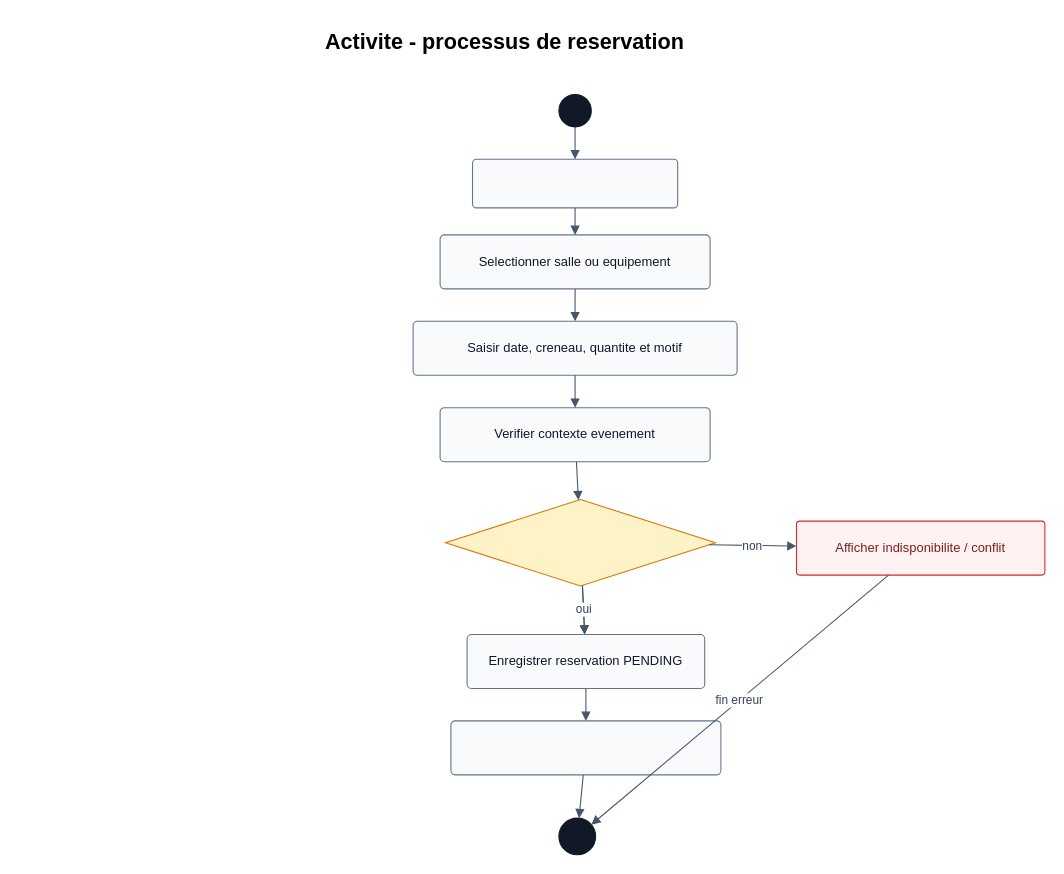
Some shapes in this 1064 by 874 pixel diagram are drawn without their labels. The centre of each missing label's shape, as x and y in pixels:
Generer document et notification: point (585, 747)
Ressource disponible et sans conflit ?: point (580, 542)
Utilisateur authentifie: point (574, 183)
